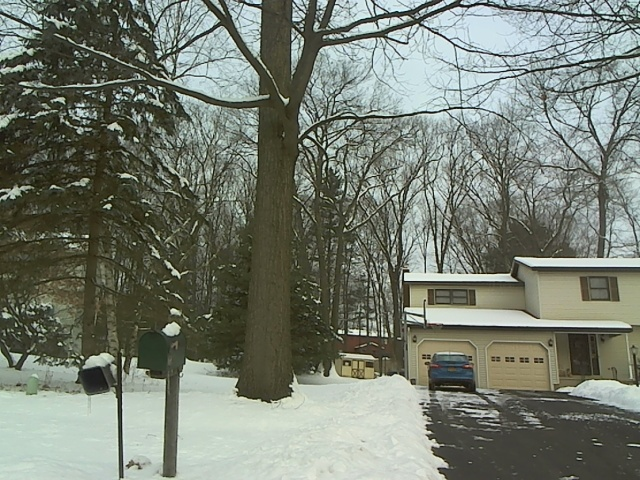Ploughed: (425, 385, 635, 476)
